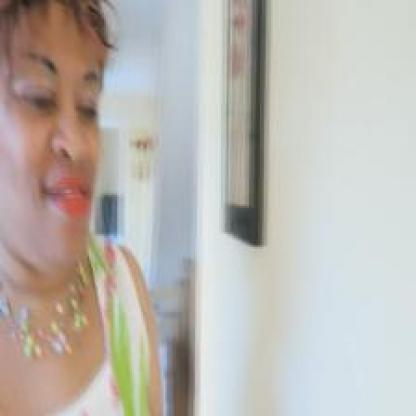other: (40, 172, 98, 220)
